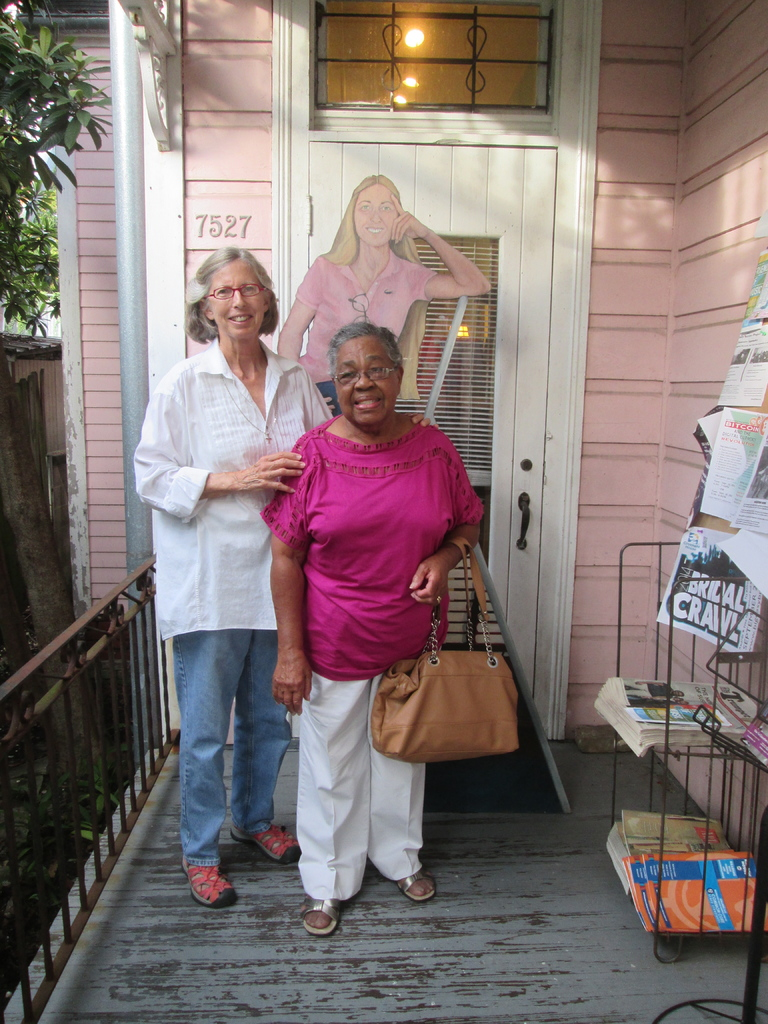Door: (308, 136, 558, 743)
